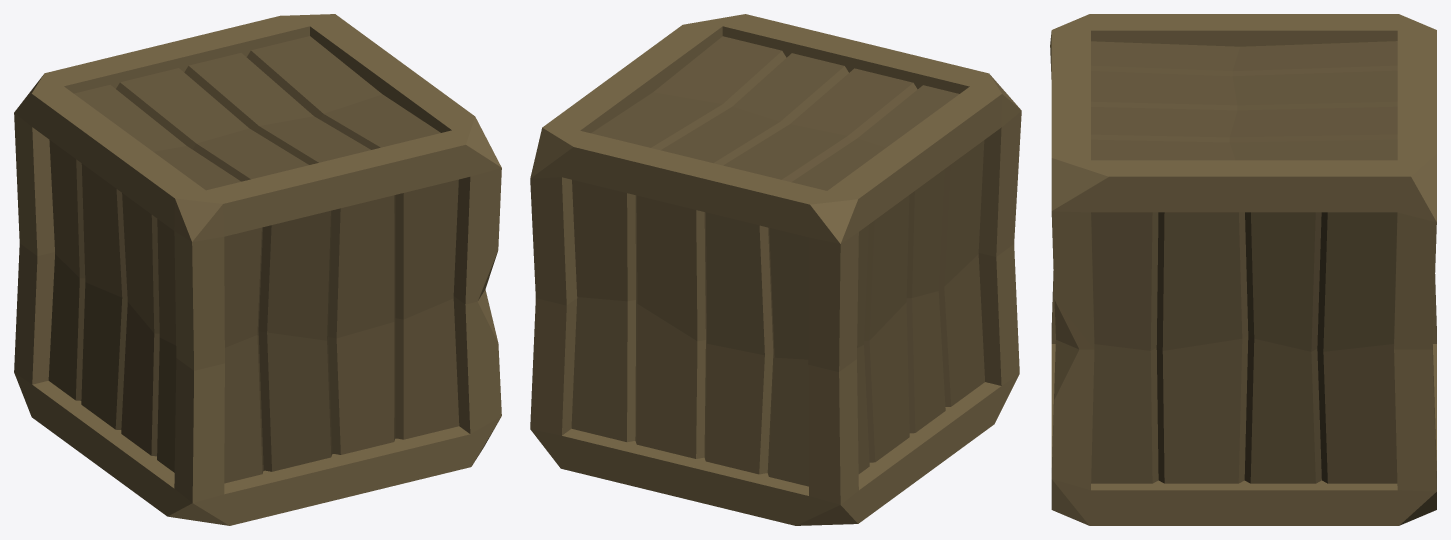
The model's file is Crate_1.fbx.
The picture shows the model from 3 angles, left to right: view 1: azimuth 30°, elevation 25°; view 2: azimuth 150°, elevation 25°; view 3: azimuth 270°, elevation 25°; orthographic projection. The views are drawn at different scales.
Visible parts, largest first — view 1: Crate_1; view 2: Crate_1; view 3: Crate_1.
Part boxes in pixels (x1=…): Crate_1: x1=14, y1=14, x2=501, y2=525; Crate_1: x1=530, y1=14, x2=1021, y2=525; Crate_1: x1=1050, y1=14, x2=1436, y2=525.
Bounding box in the file's own units: 67.8 × 67.53 × 67.8.
